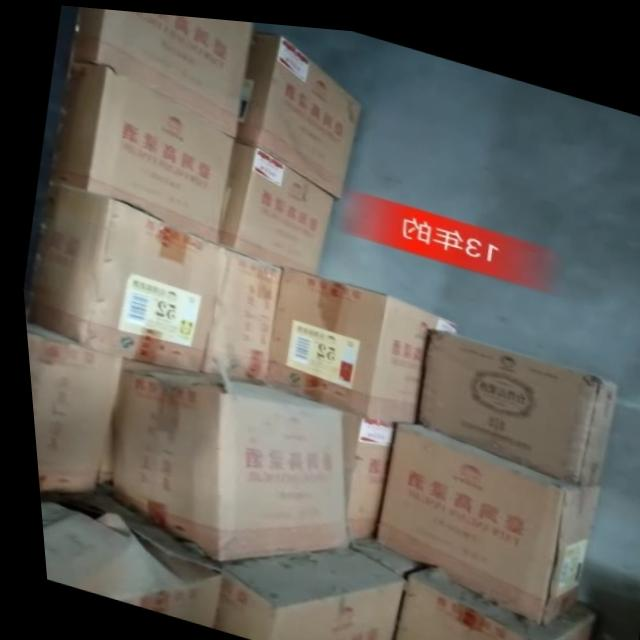box: (103, 368, 340, 559), (367, 416, 593, 615), (24, 181, 216, 368), (46, 61, 234, 241), (412, 321, 612, 475), (259, 261, 452, 416), (32, 491, 212, 624), (70, 6, 252, 134), (231, 26, 359, 195), (203, 542, 396, 640), (383, 559, 585, 640), (21, 321, 116, 493), (215, 137, 331, 270), (193, 242, 277, 378), (334, 405, 388, 536), (340, 530, 409, 570)
